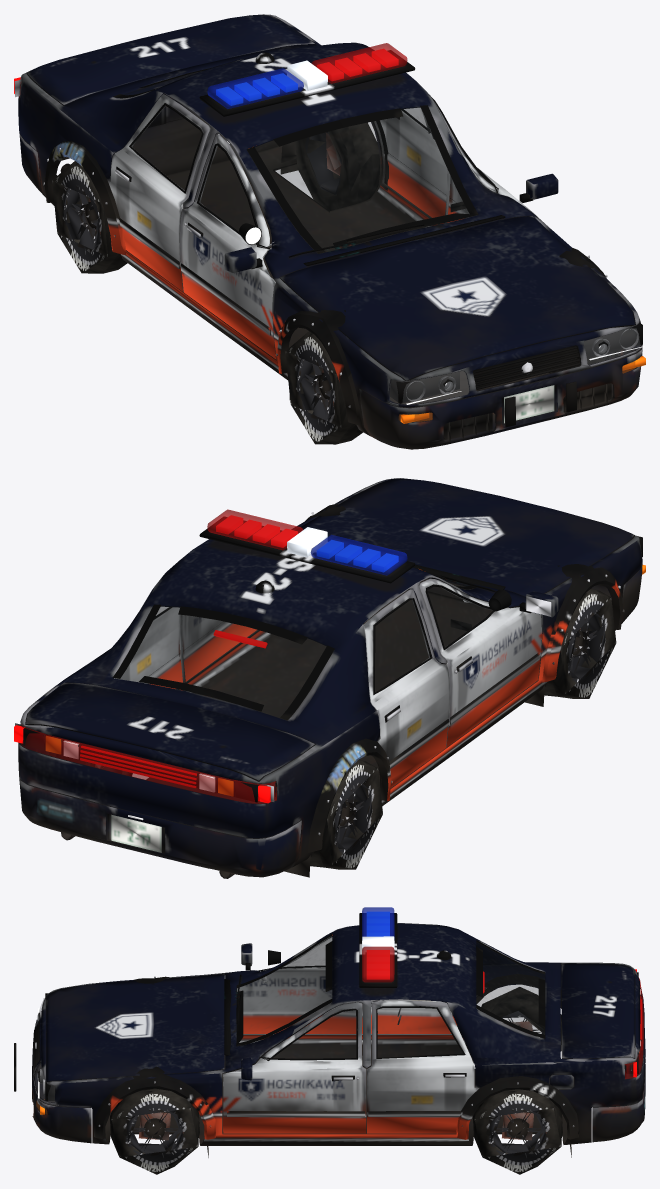
Rendered from security_lod1.glb.
3 renders of one model, top to bottom at view 1: azimuth 30°, elevation 25°; view 2: azimuth 150°, elevation 25°; view 3: azimuth 270°, elevation 25°, orthographic. The views are drawn at different scales.
Parts seen in each view (by area): view 1: Body, Wheel_RL, Wheel_FR, Wheel_RR; view 2: Body, Wheel_RR, Wheel_FR; view 3: Body, Wheel_FL, Wheel_RL, Wheel_RR.
Part boxes in pixels (x1,y1,x2,y2): Body: [14, 14, 645, 449]; Wheel_RL: [295, 122, 379, 210]; Wheel_FR: [285, 331, 362, 444]; Wheel_RR: [52, 161, 127, 273]; Body: [14, 478, 645, 878]; Wheel_RR: [310, 759, 382, 869]; Wheel_FR: [544, 588, 616, 698]; Body: [14, 907, 645, 1157]; Wheel_FL: [110, 1088, 199, 1174]; Wheel_RL: [473, 1089, 562, 1174]; Wheel_RR: [481, 987, 561, 1051].
Size of what is drawn, in the model's own units: 2.16 by 1.47 by 4.61.
Materials: 2 (2 with a texture image).
